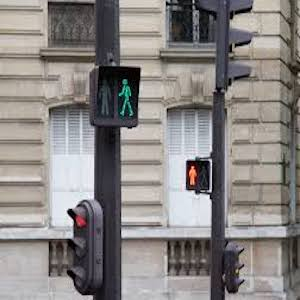green: (115, 78, 139, 122)
red: (185, 163, 200, 190)
